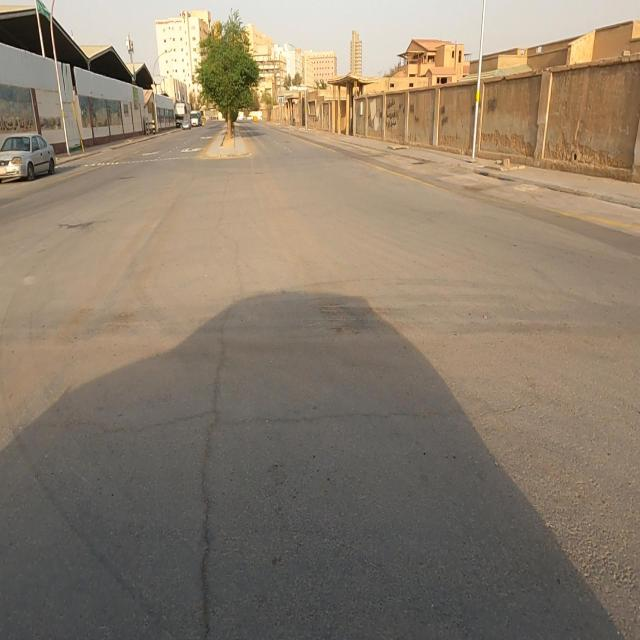Graffiti: (387, 99, 399, 132), (489, 96, 499, 114), (441, 106, 448, 129), (410, 103, 417, 115)
